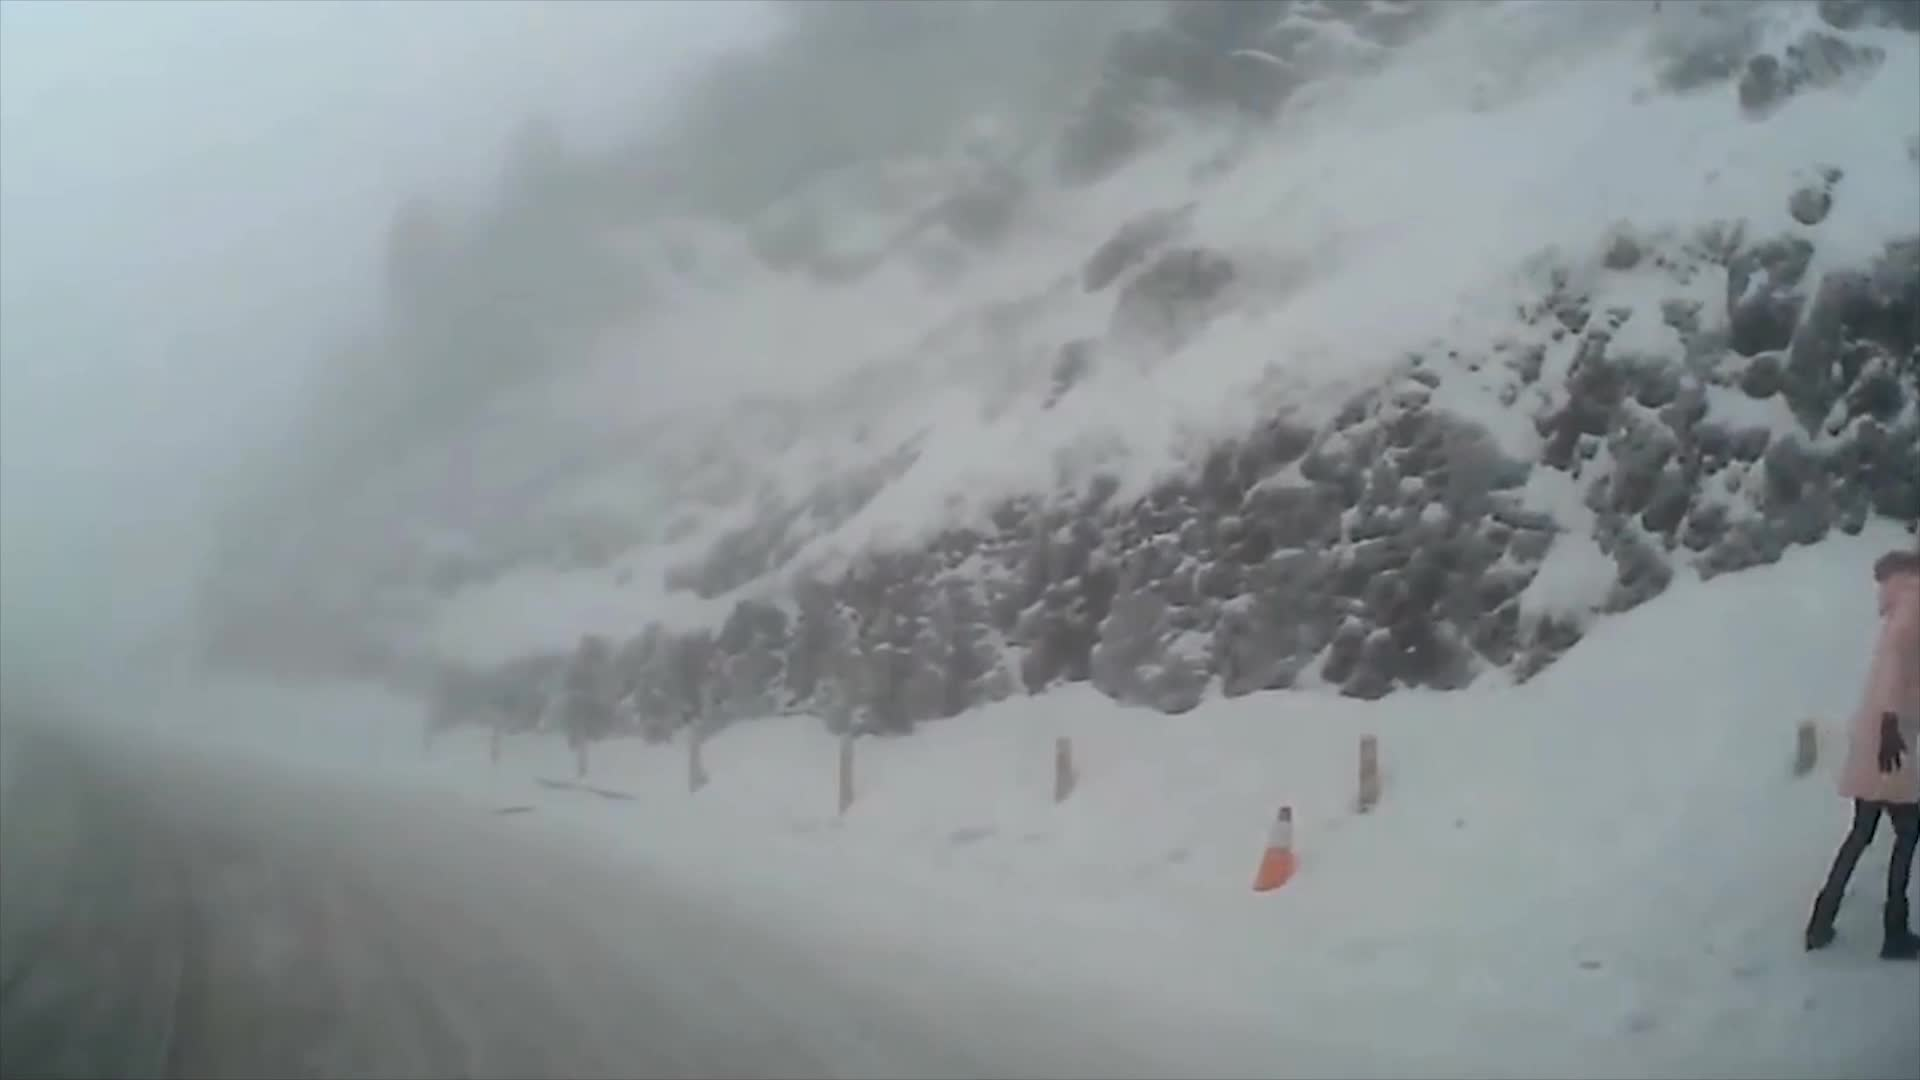pedestrian: (1807, 512, 1920, 955)
